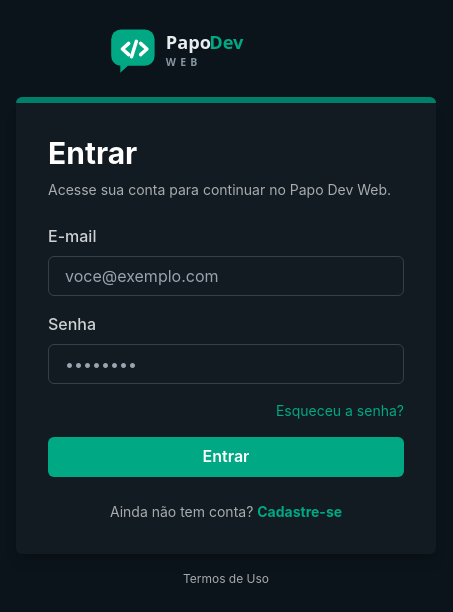
Test: LoginPage › exibe erro de validação para e-mail inválido
Type "invalido" into the field labelled "E-mail".
click(226, 276); type("invalido")  # box x1=48 y1=256 x2=404 y2=296
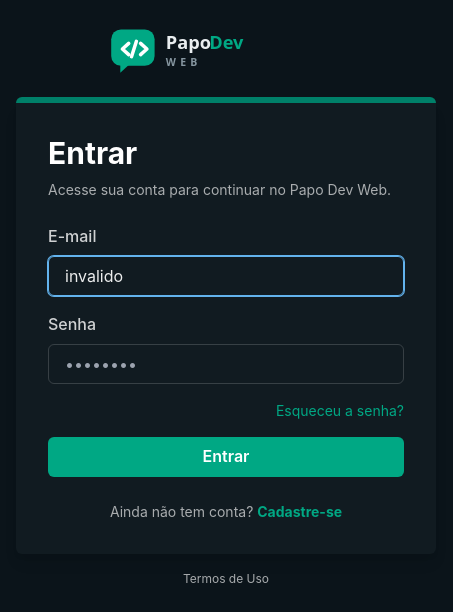
Type "123" into the password field labelled "Senha".
click(226, 364); type("123")  # box x1=48 y1=344 x2=404 y2=384
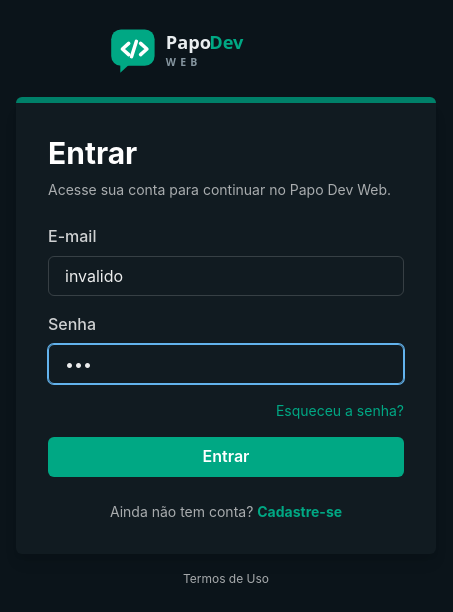
Click the button "Entrar".
click(226, 456)  # box x1=48 y1=436 x2=404 y2=476
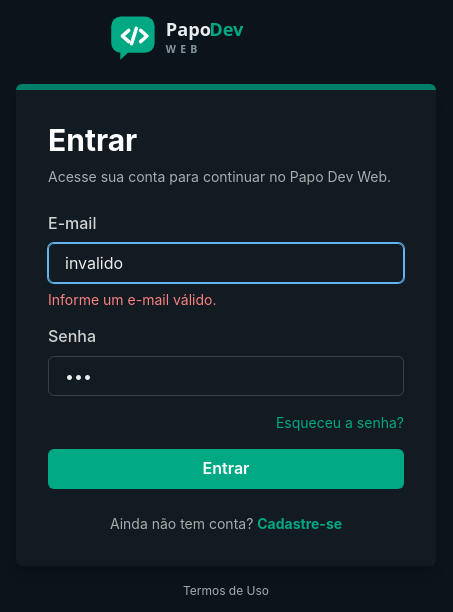
Result: the text "Informe um e-mail válido." is shown at x1=48 y1=291 x2=216 y2=308
